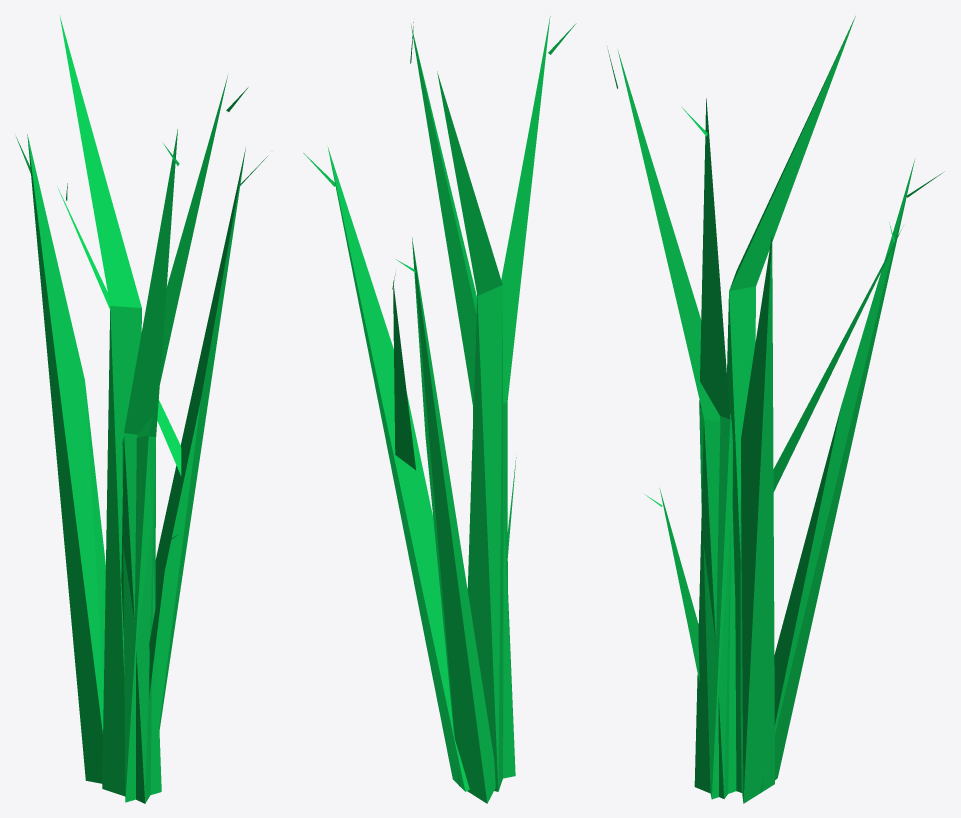
File: Grass.fbx
3 views of the same model, side by side, from view 1: azimuth 30°, elevation 25°; view 2: azimuth 150°, elevation 25°; view 3: azimuth 270°, elevation 25° (orthographic). The views are drawn at different scales.
Visible parts, largest first — view 1: Cylinder.007; view 2: Cylinder.007; view 3: Cylinder.007.
Boxes of the visible parts, x1,y1,x2,y2 form: Cylinder.007: (16, 15, 267, 803); Cylinder.007: (303, 16, 576, 803); Cylinder.007: (607, 16, 944, 803).
Bounding box in the file's own units: 376 × 1396 × 559.
